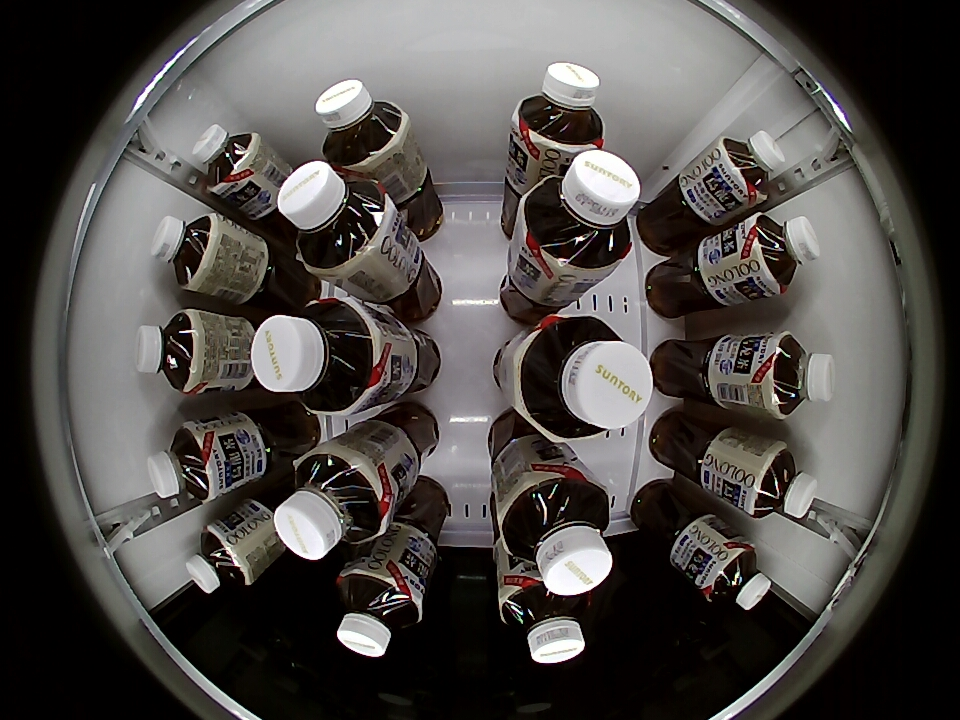wulongcha: (516, 315, 653, 441), (252, 296, 383, 414), (521, 148, 642, 273), (501, 476, 614, 596), (273, 447, 391, 561), (277, 161, 393, 275), (334, 561, 424, 658), (498, 574, 590, 665), (315, 79, 408, 169), (513, 61, 604, 152), (753, 331, 838, 420), (738, 214, 822, 296), (147, 420, 224, 502), (133, 309, 204, 395), (742, 442, 818, 520), (713, 130, 787, 205), (150, 213, 222, 290), (190, 124, 261, 200), (700, 539, 772, 611), (185, 523, 252, 594)
